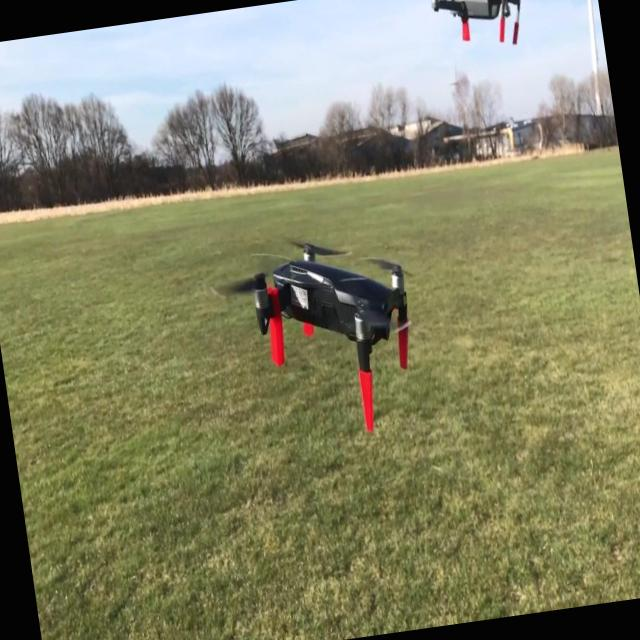drone: (243, 221, 427, 446), (424, 0, 549, 57)
